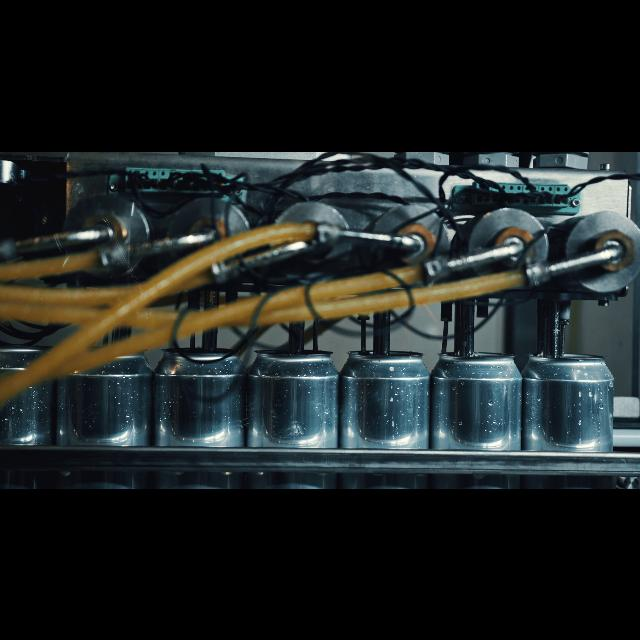empty: (516, 346, 618, 488), (428, 346, 520, 488), (153, 342, 241, 488), (248, 339, 334, 488), (344, 344, 431, 488), (66, 344, 150, 488), (0, 344, 66, 488)
